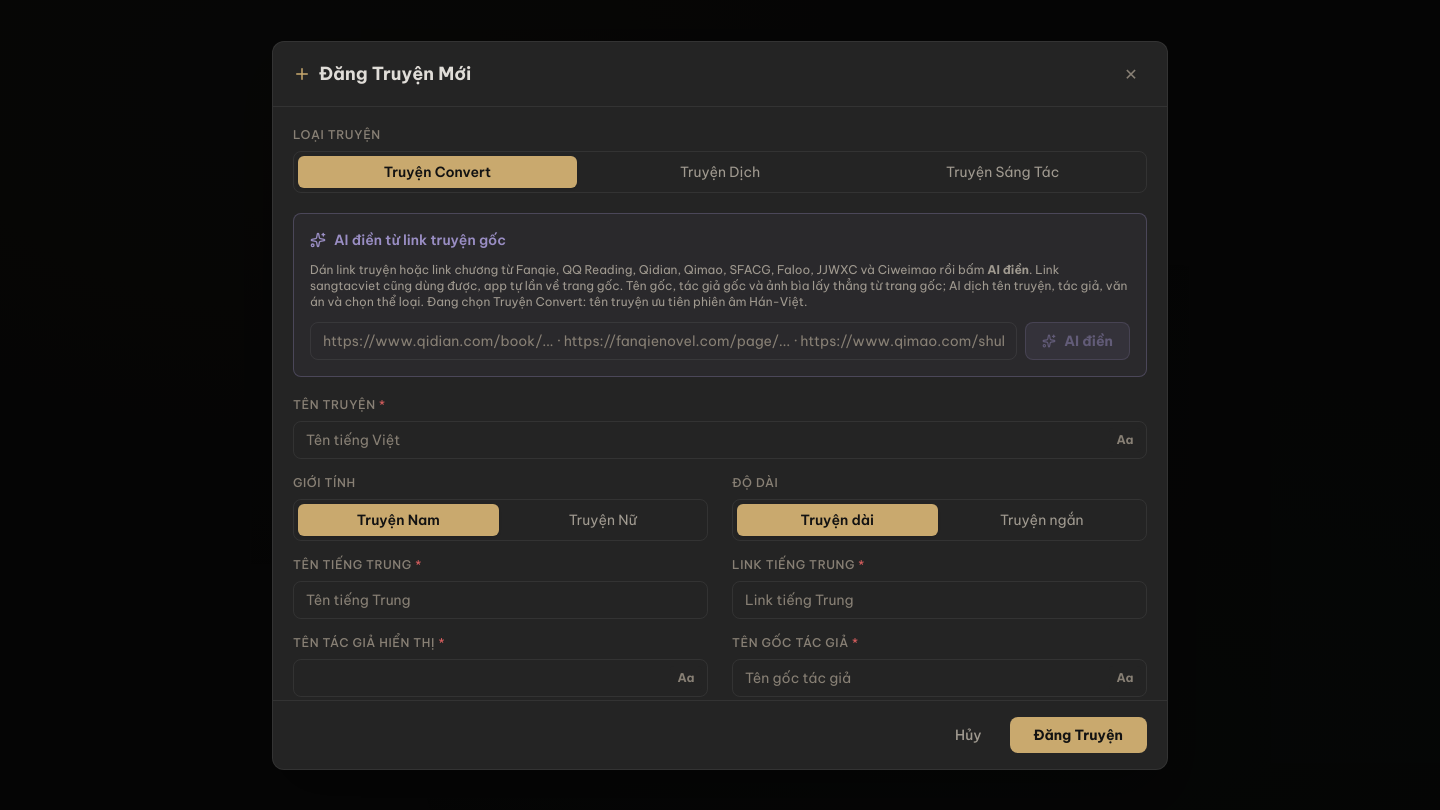
Scenario: CreateBookModal › says plainly that the provider refuses the book when even the short request is blocked
The width and height of the screenshot is (1440, 810).
Replace the text in the field named "Link truyện gốc" with "https://www.qidian.com/book/1010868264/": point(664, 340) 310,322 -> 1017,360
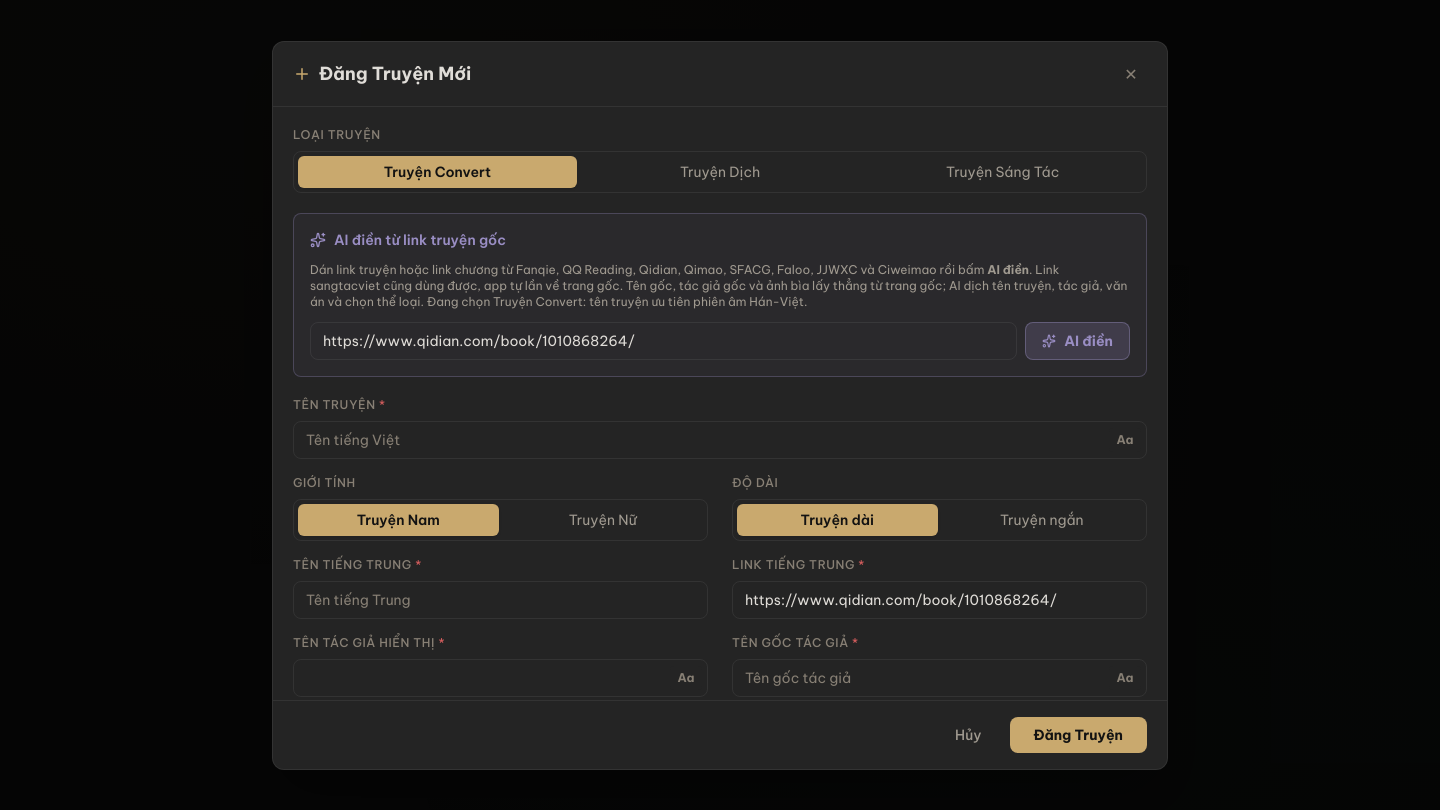
Click the button "AI điền": point(1078, 340) 1025,322 -> 1130,360
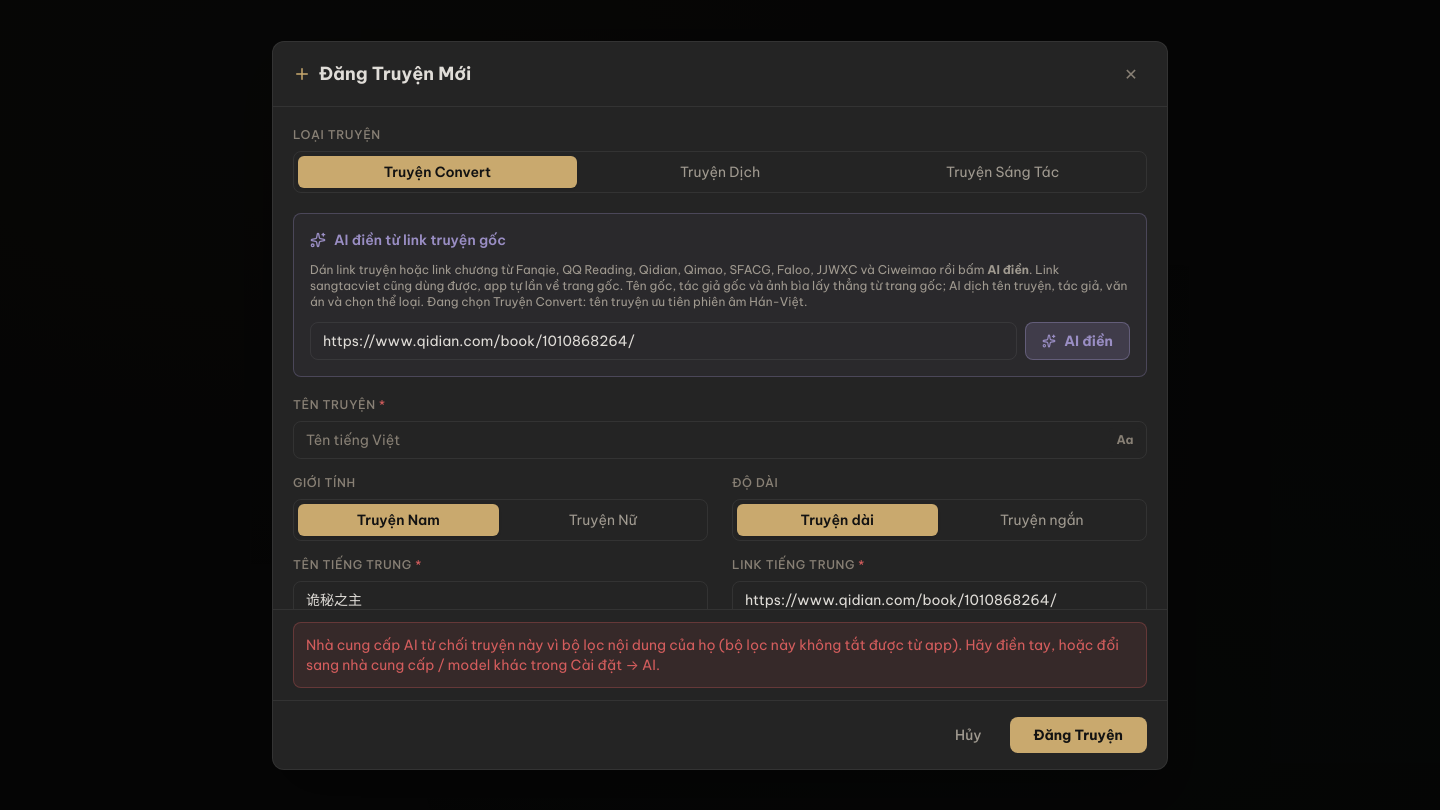
expect the message shows "Nhà cung cấp AI từ chối truyện này vì bộ lọc nội dung": met, box 306,636 -> 1119,674
expect the message shows "Cài đặt → AI": met, box 306,636 -> 1119,674
